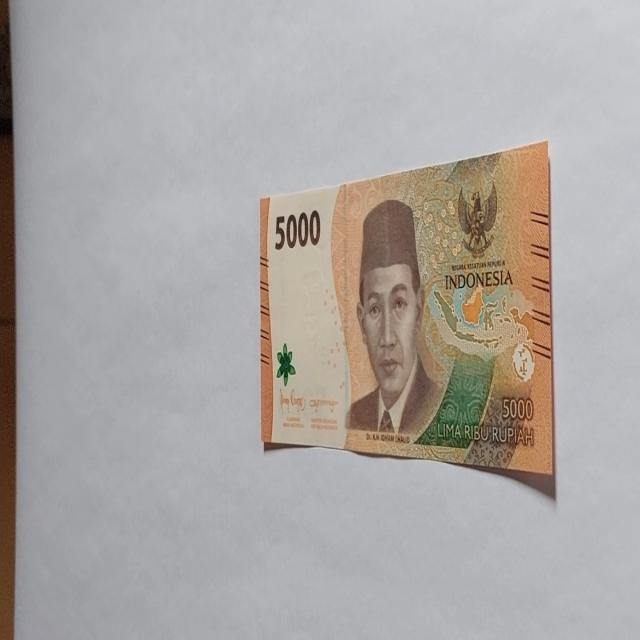lima ribu rupiah: (259, 140, 555, 497), (345, 197, 444, 439)
